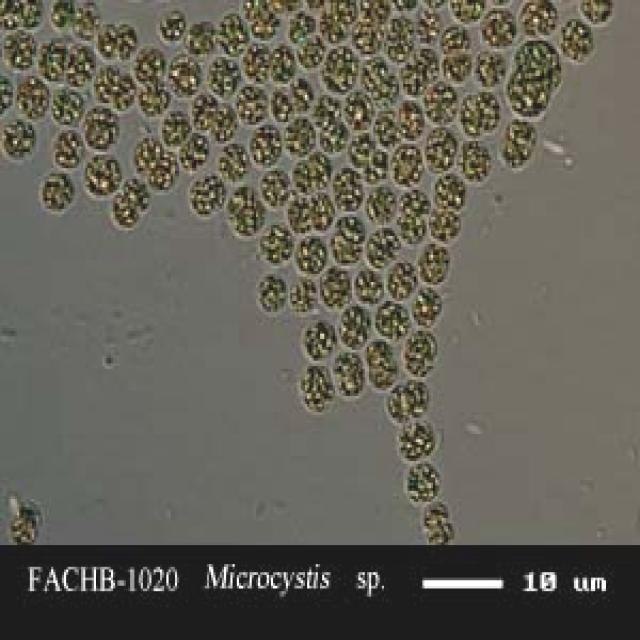Blue Green Algae: (454, 133, 493, 184), (168, 49, 205, 100), (188, 165, 224, 217), (514, 38, 559, 79), (83, 103, 120, 152), (226, 192, 267, 236), (83, 152, 122, 198), (38, 166, 75, 214), (2, 111, 36, 163), (478, 5, 518, 49), (213, 11, 250, 57), (299, 317, 337, 361), (15, 74, 51, 120), (416, 242, 452, 288), (237, 79, 269, 130), (426, 76, 458, 127), (405, 458, 442, 502), (559, 17, 595, 62), (495, 128, 535, 168), (373, 298, 412, 339), (260, 217, 292, 266), (301, 364, 335, 409), (132, 43, 166, 87), (66, 3, 103, 43), (281, 114, 318, 154), (66, 44, 98, 90), (207, 98, 239, 144), (51, 125, 85, 168), (342, 87, 376, 130), (365, 182, 399, 225), (518, 3, 559, 38), (426, 203, 461, 244), (330, 165, 362, 209), (256, 271, 288, 315), (281, 116, 318, 154), (179, 128, 209, 174), (136, 76, 168, 119), (264, 41, 298, 81), (258, 166, 292, 206), (388, 144, 422, 184), (365, 228, 399, 268), (318, 269, 352, 309), (474, 84, 501, 133), (422, 499, 454, 540), (4, 30, 36, 70), (431, 171, 467, 206), (183, 16, 216, 54), (252, 122, 279, 168), (286, 190, 313, 236), (34, 38, 64, 79), (218, 138, 248, 179), (473, 49, 508, 84), (350, 16, 382, 54), (294, 236, 326, 274), (352, 266, 384, 304), (412, 288, 444, 326), (290, 274, 320, 314), (388, 258, 418, 298), (362, 339, 397, 372), (209, 57, 239, 95), (332, 228, 362, 266), (435, 22, 472, 52), (328, 43, 361, 76), (296, 32, 326, 68), (318, 8, 348, 44), (384, 382, 414, 418), (397, 95, 422, 138), (132, 133, 160, 171), (307, 190, 335, 228), (250, 8, 282, 41), (314, 92, 346, 125), (158, 6, 185, 44), (318, 114, 345, 152), (361, 52, 388, 90), (111, 187, 136, 228), (401, 59, 427, 98), (109, 22, 136, 59), (335, 347, 365, 380), (399, 206, 427, 241), (403, 377, 431, 412), (149, 147, 173, 187), (271, 82, 296, 120), (395, 421, 420, 458), (335, 212, 365, 242), (309, 155, 337, 187), (162, 108, 186, 144), (288, 11, 316, 41), (348, 130, 371, 163), (96, 22, 115, 59), (2, 3, 24, 30)
